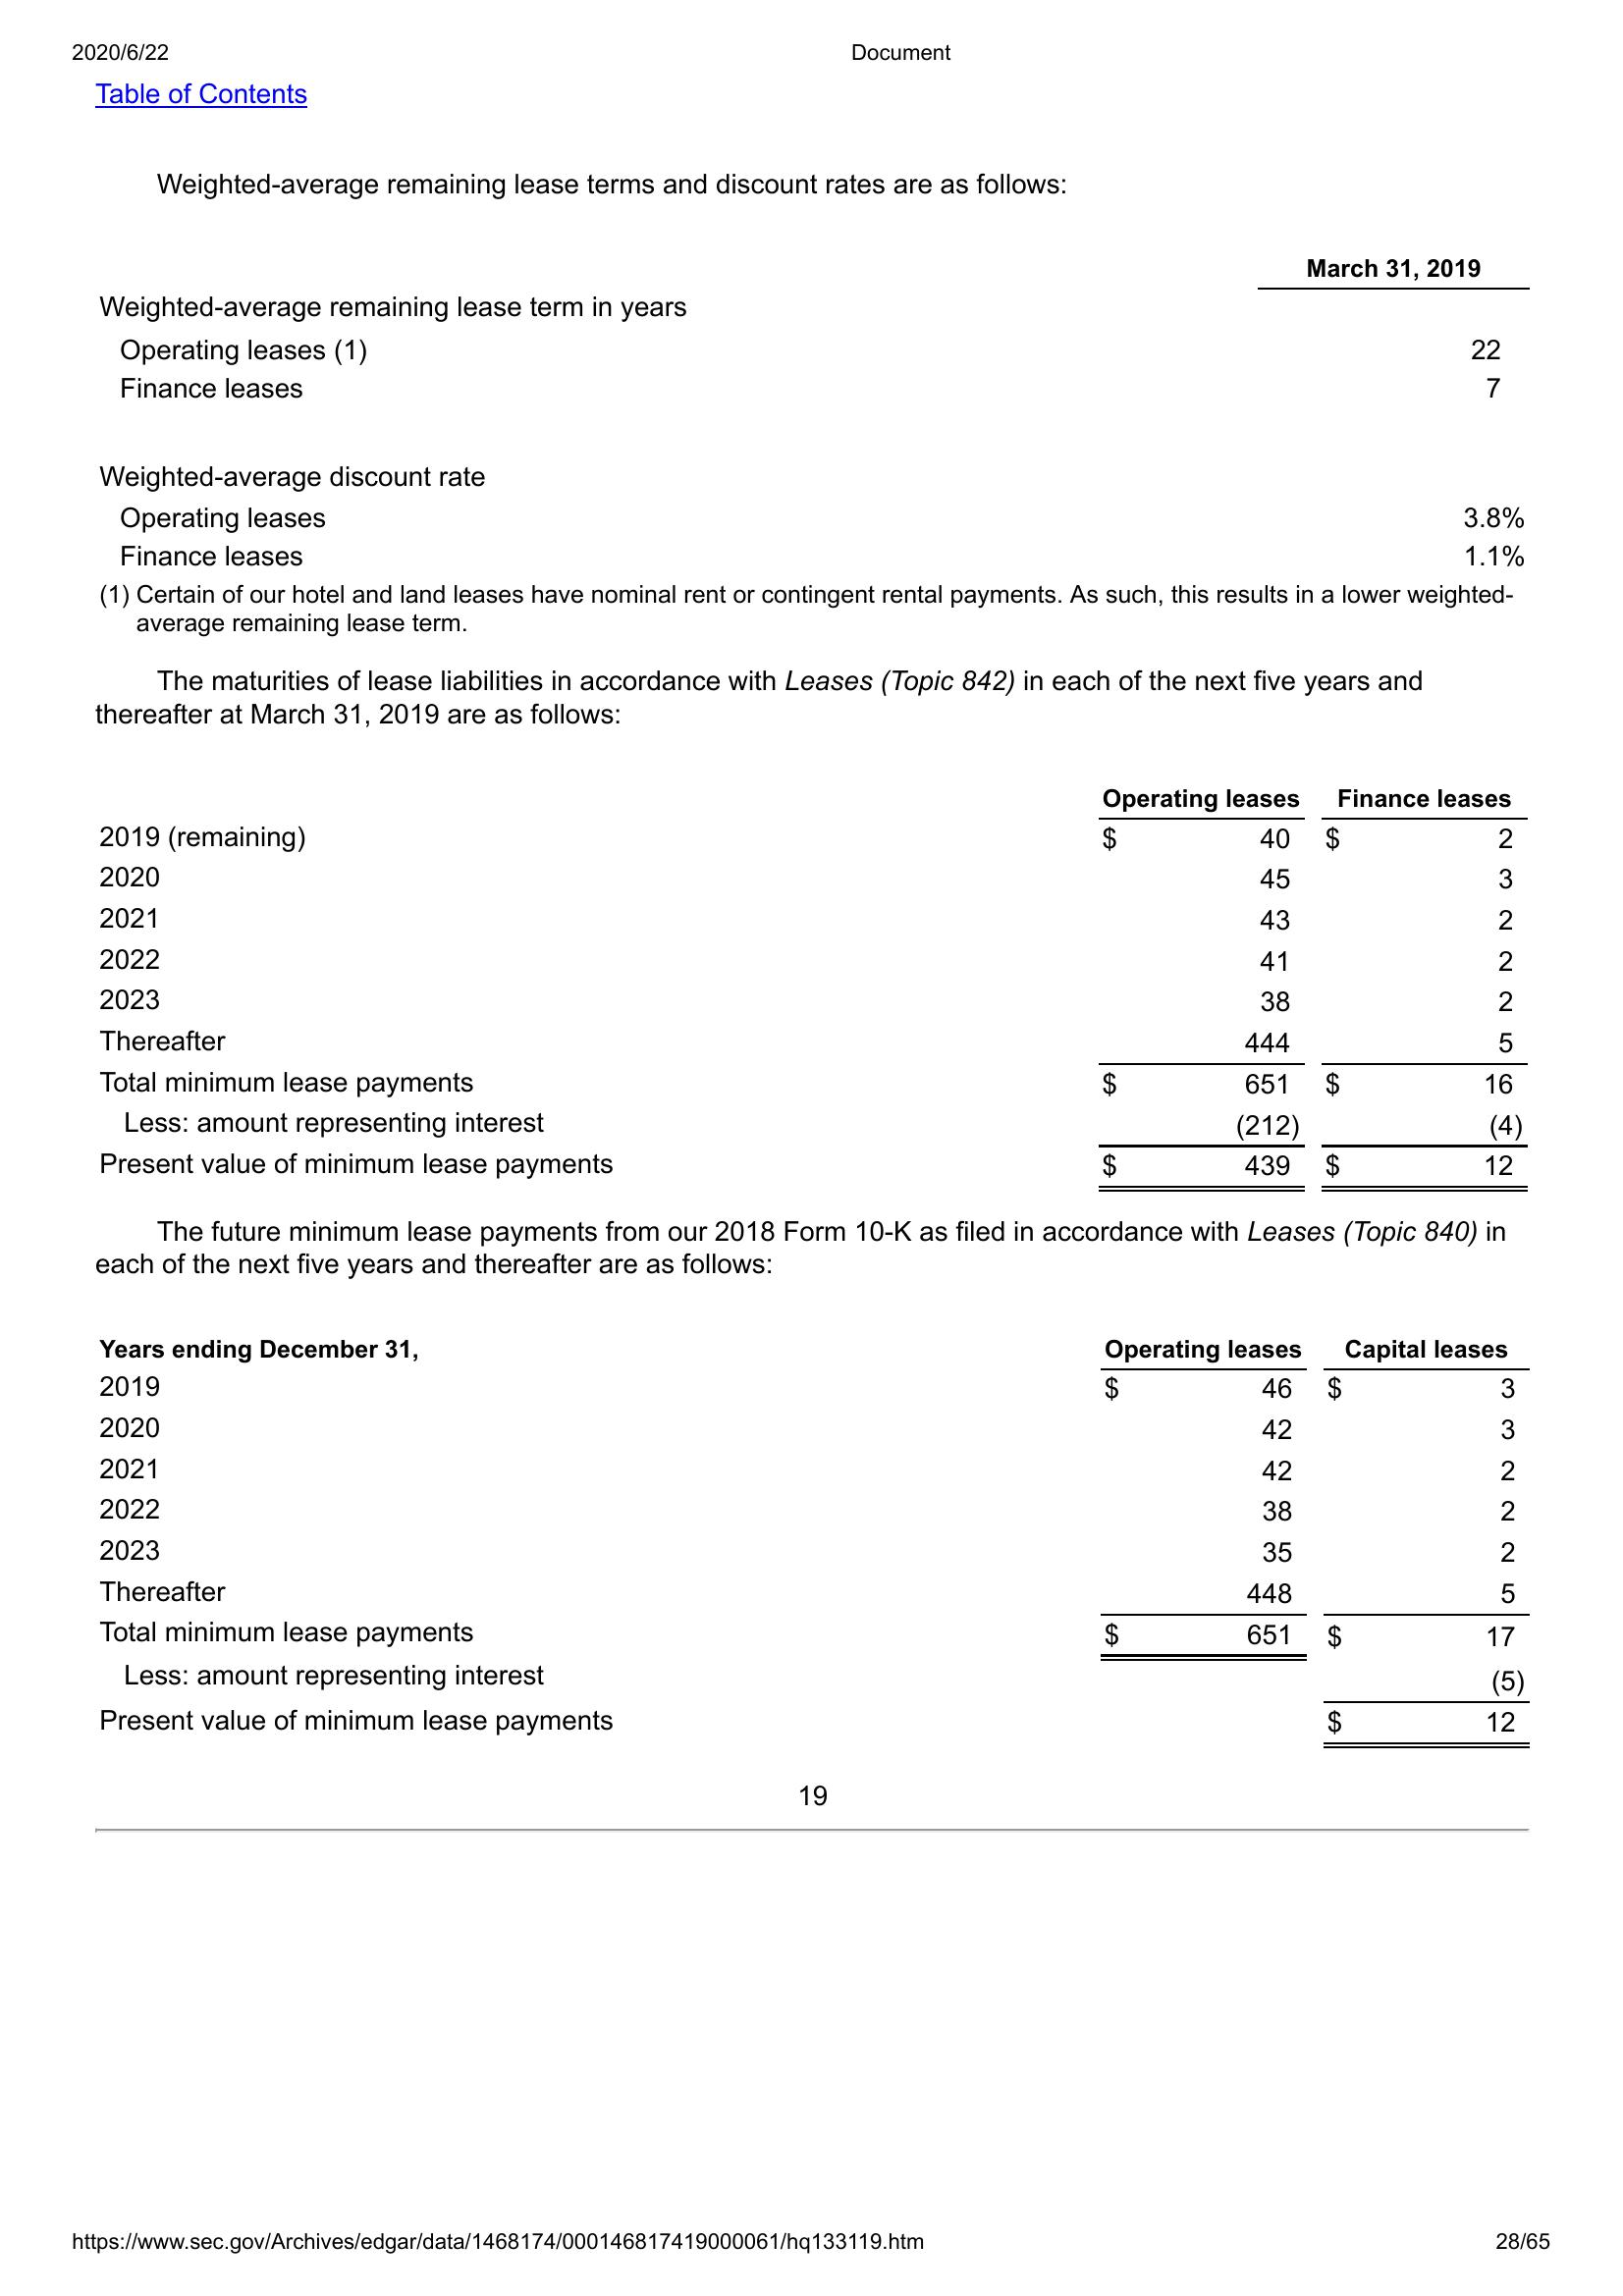table: (91, 1317, 1539, 1754), (90, 767, 1530, 1197), (88, 253, 1546, 576)
